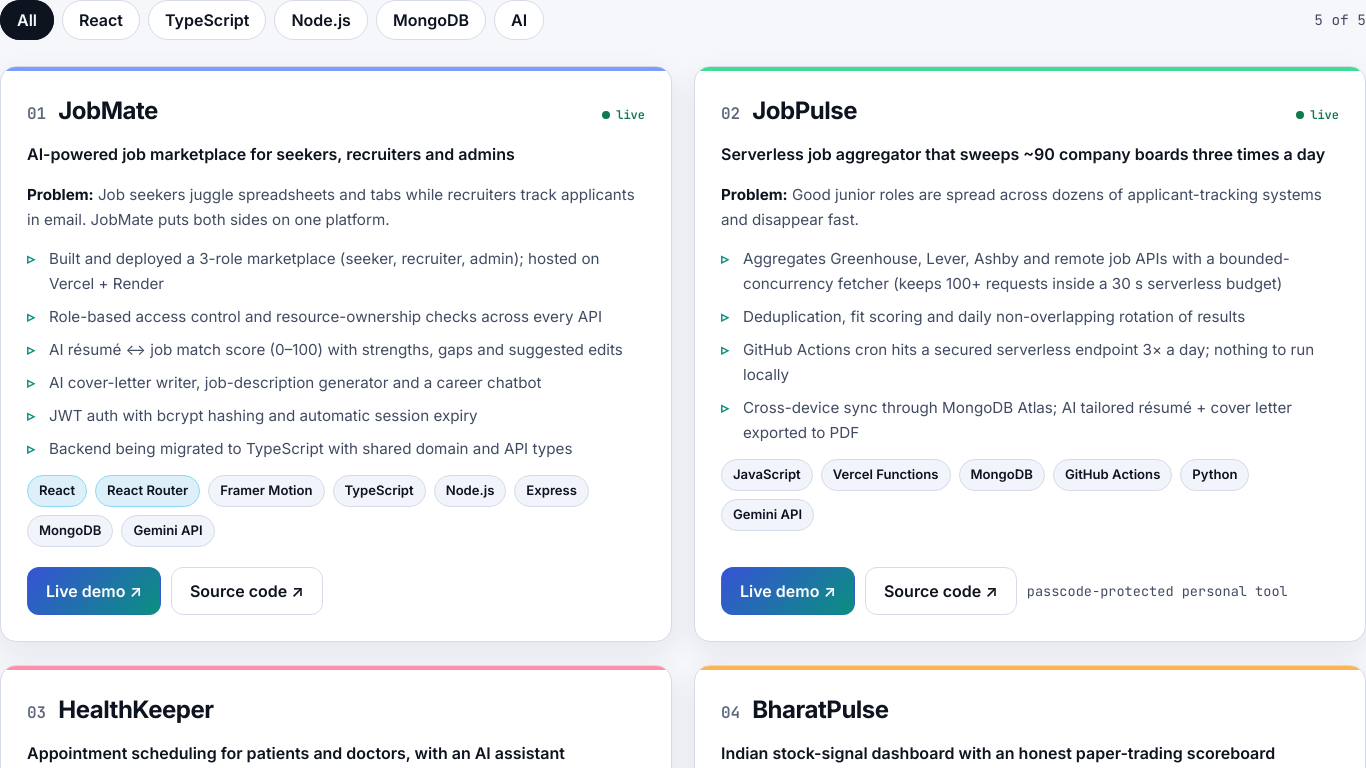
<Projects /> › filters by technology and reflects the pressed state
Click the button "TypeScript".
click(207, 20)  # box [148,0,266,40]
(page scrolled)
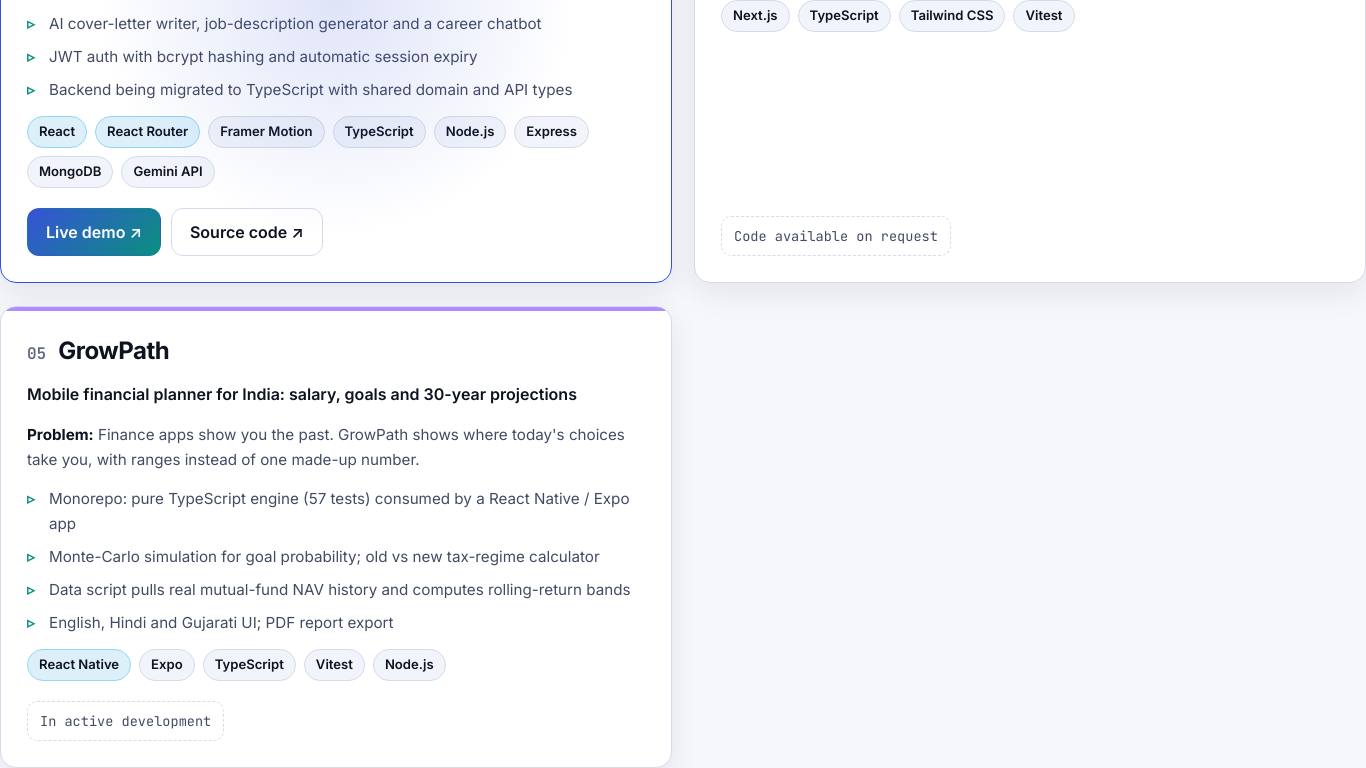
Expected: the list item "TypeScript" next to "Framer Motion" is shown, [344,124,414,140]
Expected: the list item "TypeScript" below "05" is shown, [215,656,284,672]
